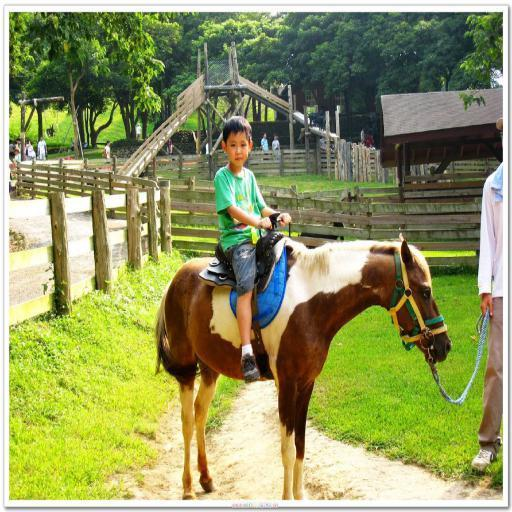horse: (155, 217, 454, 501)
